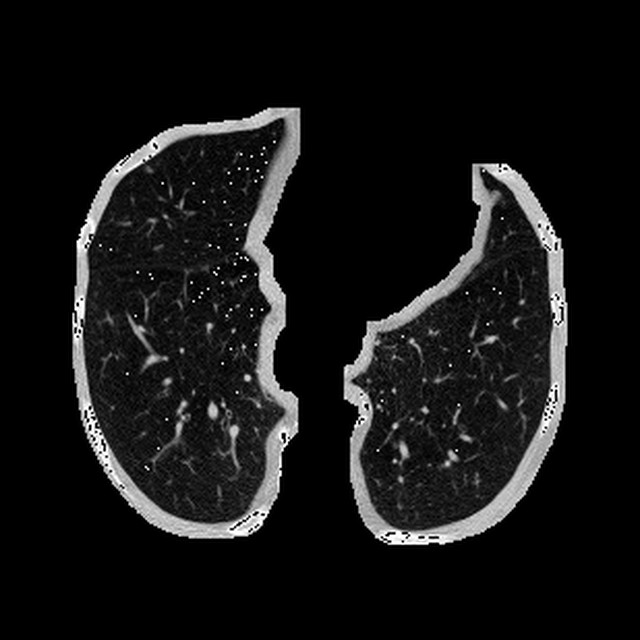PN: (143, 166, 151, 174)
